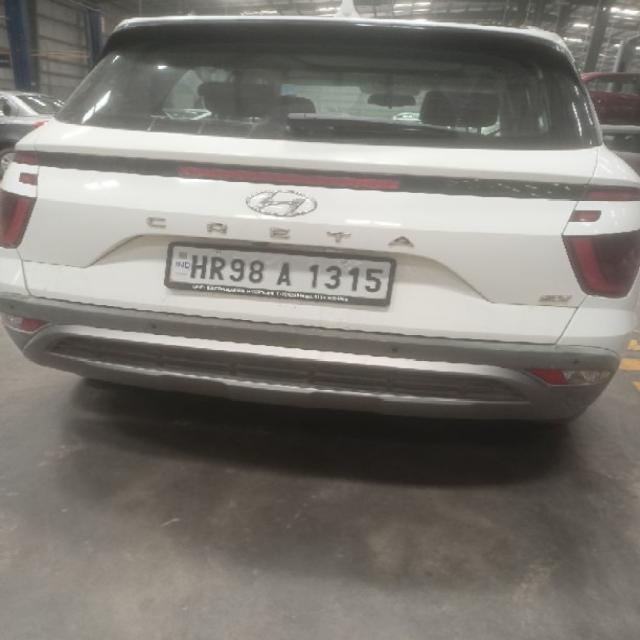license_plate: (162, 240, 396, 307)
